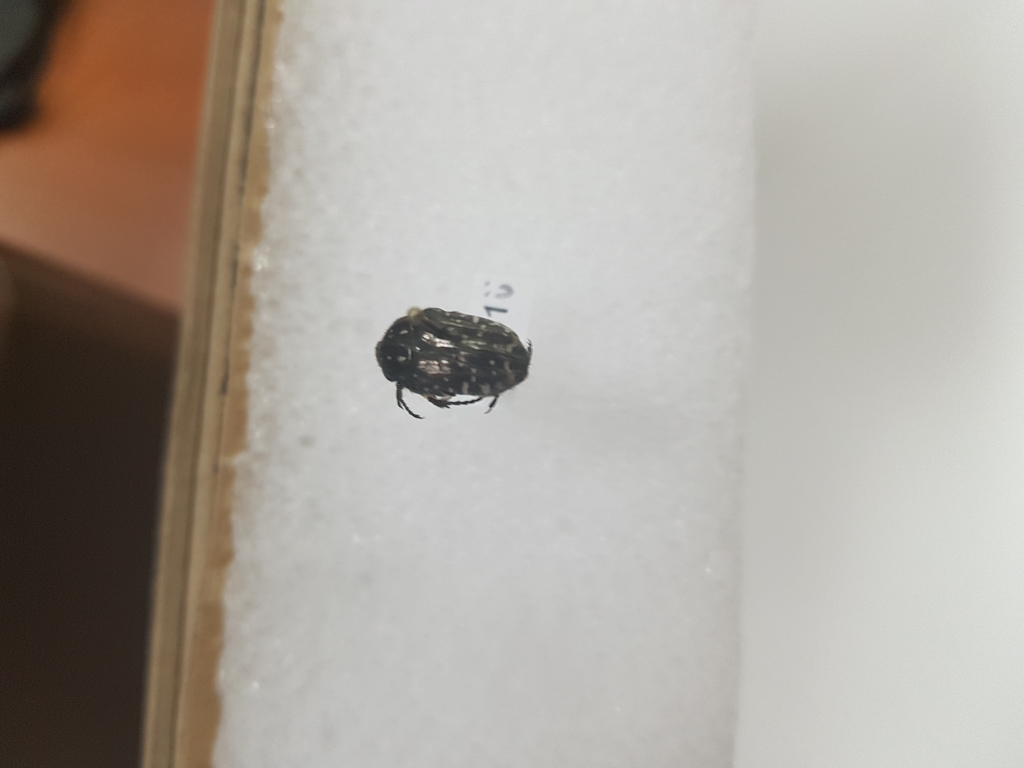Oxythyrea_funesta: (363, 303, 542, 412)
